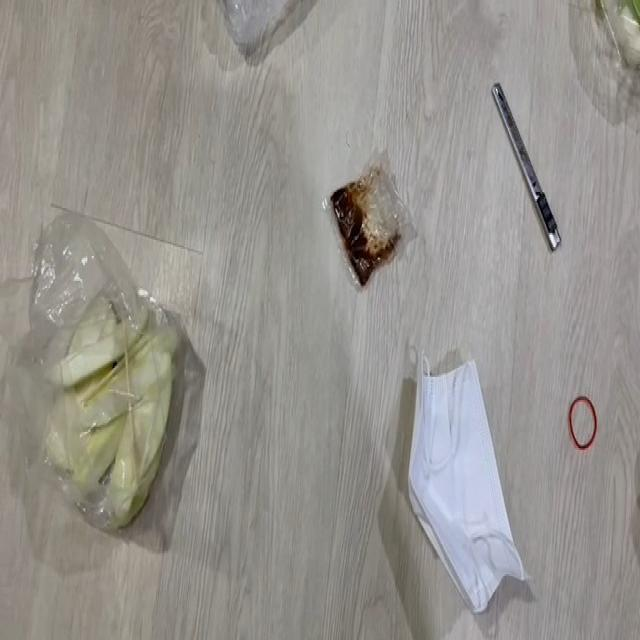Anorganik: (477, 79, 582, 258), (212, 0, 312, 69), (564, 394, 604, 454)
B3: (402, 348, 538, 620), (38, 294, 183, 543), (318, 133, 419, 297)
